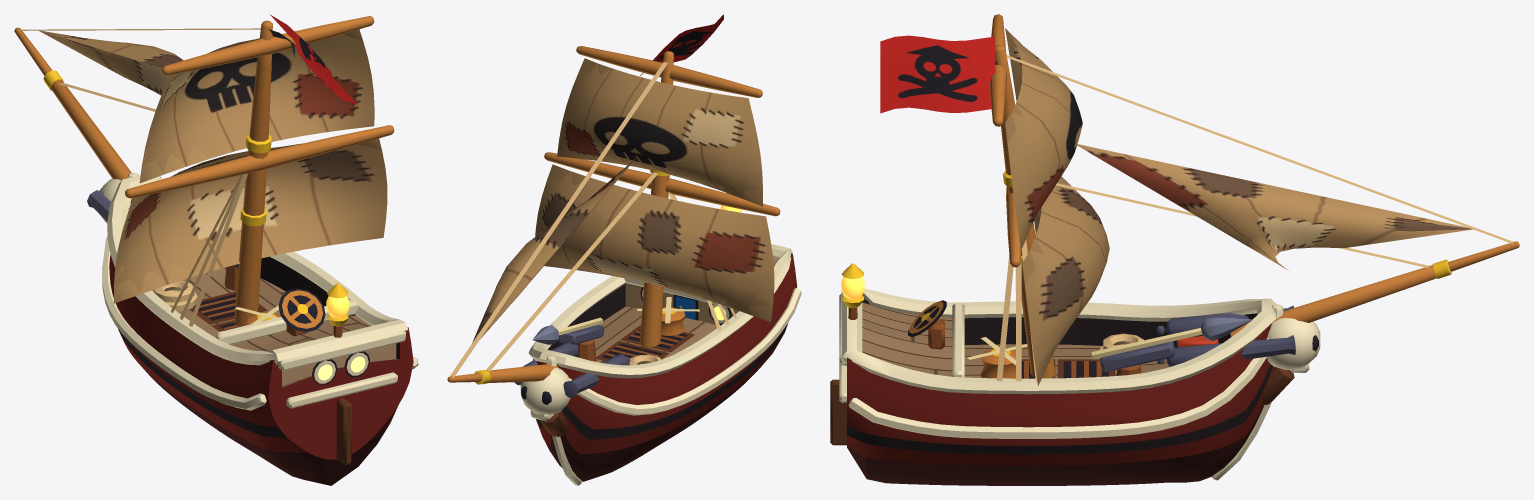
Rendered from brethren_chaser.glb.
3 renders of one model, left to right at view 1: azimuth 30°, elevation 25°; view 2: azimuth 150°, elevation 25°; view 3: azimuth 270°, elevation 25°, orthographic. The views are drawn at different scales.
Visible parts, largest first — view 1: Hull, Sail0_0, Sail0_1, Rigging, Jib, Flag, Guns0; view 2: Hull, Sail0_0, Sail0_1, Rigging, Jib, Flag, Guns0; view 3: Hull, Jib, Rigging, Sail0_0, Sail0_1, Flag, Guns0.
Boxes of the visible parts, box(x1,y1,x2,y2) form: Hull: box(100, 172, 418, 485); Sail0_0: box(113, 138, 387, 303); Sail0_1: box(139, 29, 374, 183); Rigging: box(14, 16, 394, 326); Jib: box(39, 30, 183, 95); Flag: box(269, 14, 357, 104); Guns0: box(87, 176, 160, 221); Hull: box(520, 193, 801, 485); Sail0_0: box(535, 164, 774, 322); Sail0_1: box(557, 58, 762, 206); Rigging: box(447, 40, 780, 384); Jib: box(472, 157, 636, 342); Flag: box(640, 14, 723, 75); Guns0: box(514, 342, 630, 397); Hull: box(830, 263, 1320, 485); Jib: box(1077, 144, 1472, 270); Rigging: box(989, 14, 1519, 381); Sail0_0: box(1022, 176, 1109, 385); Sail0_1: box(1005, 28, 1082, 250); Flag: box(880, 35, 995, 113); Guns0: box(1156, 305, 1295, 366).
Size of the model in its own units: 1.19 by 1.8 by 2.51.
9 materials, 4 textured.
